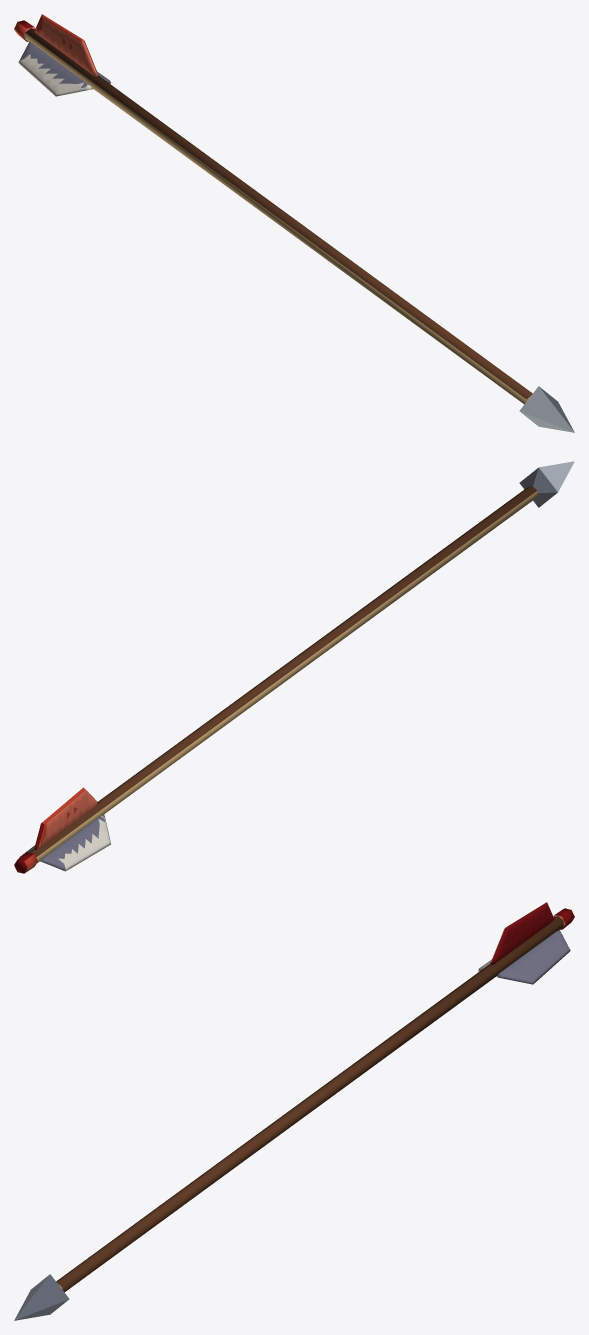
File: bw_arrow.glb
3 renders of one model, top to bottom at view 1: azimuth 30°, elevation 25°; view 2: azimuth 150°, elevation 25°; view 3: azimuth 330°, elevation 25°, orthographic.
Parts seen in each view (by area): view 1: Weapon; view 2: Weapon; view 3: Weapon.
Part boxes in pixels (x1=…): Weapon: x1=14, y1=14, x2=574, y2=432; Weapon: x1=14, y1=461, x2=574, y2=873; Weapon: x1=14, y1=902, x2=574, y2=1320.
Bounding box in the file's own units: 0.0485 × 0.045 × 0.84.
